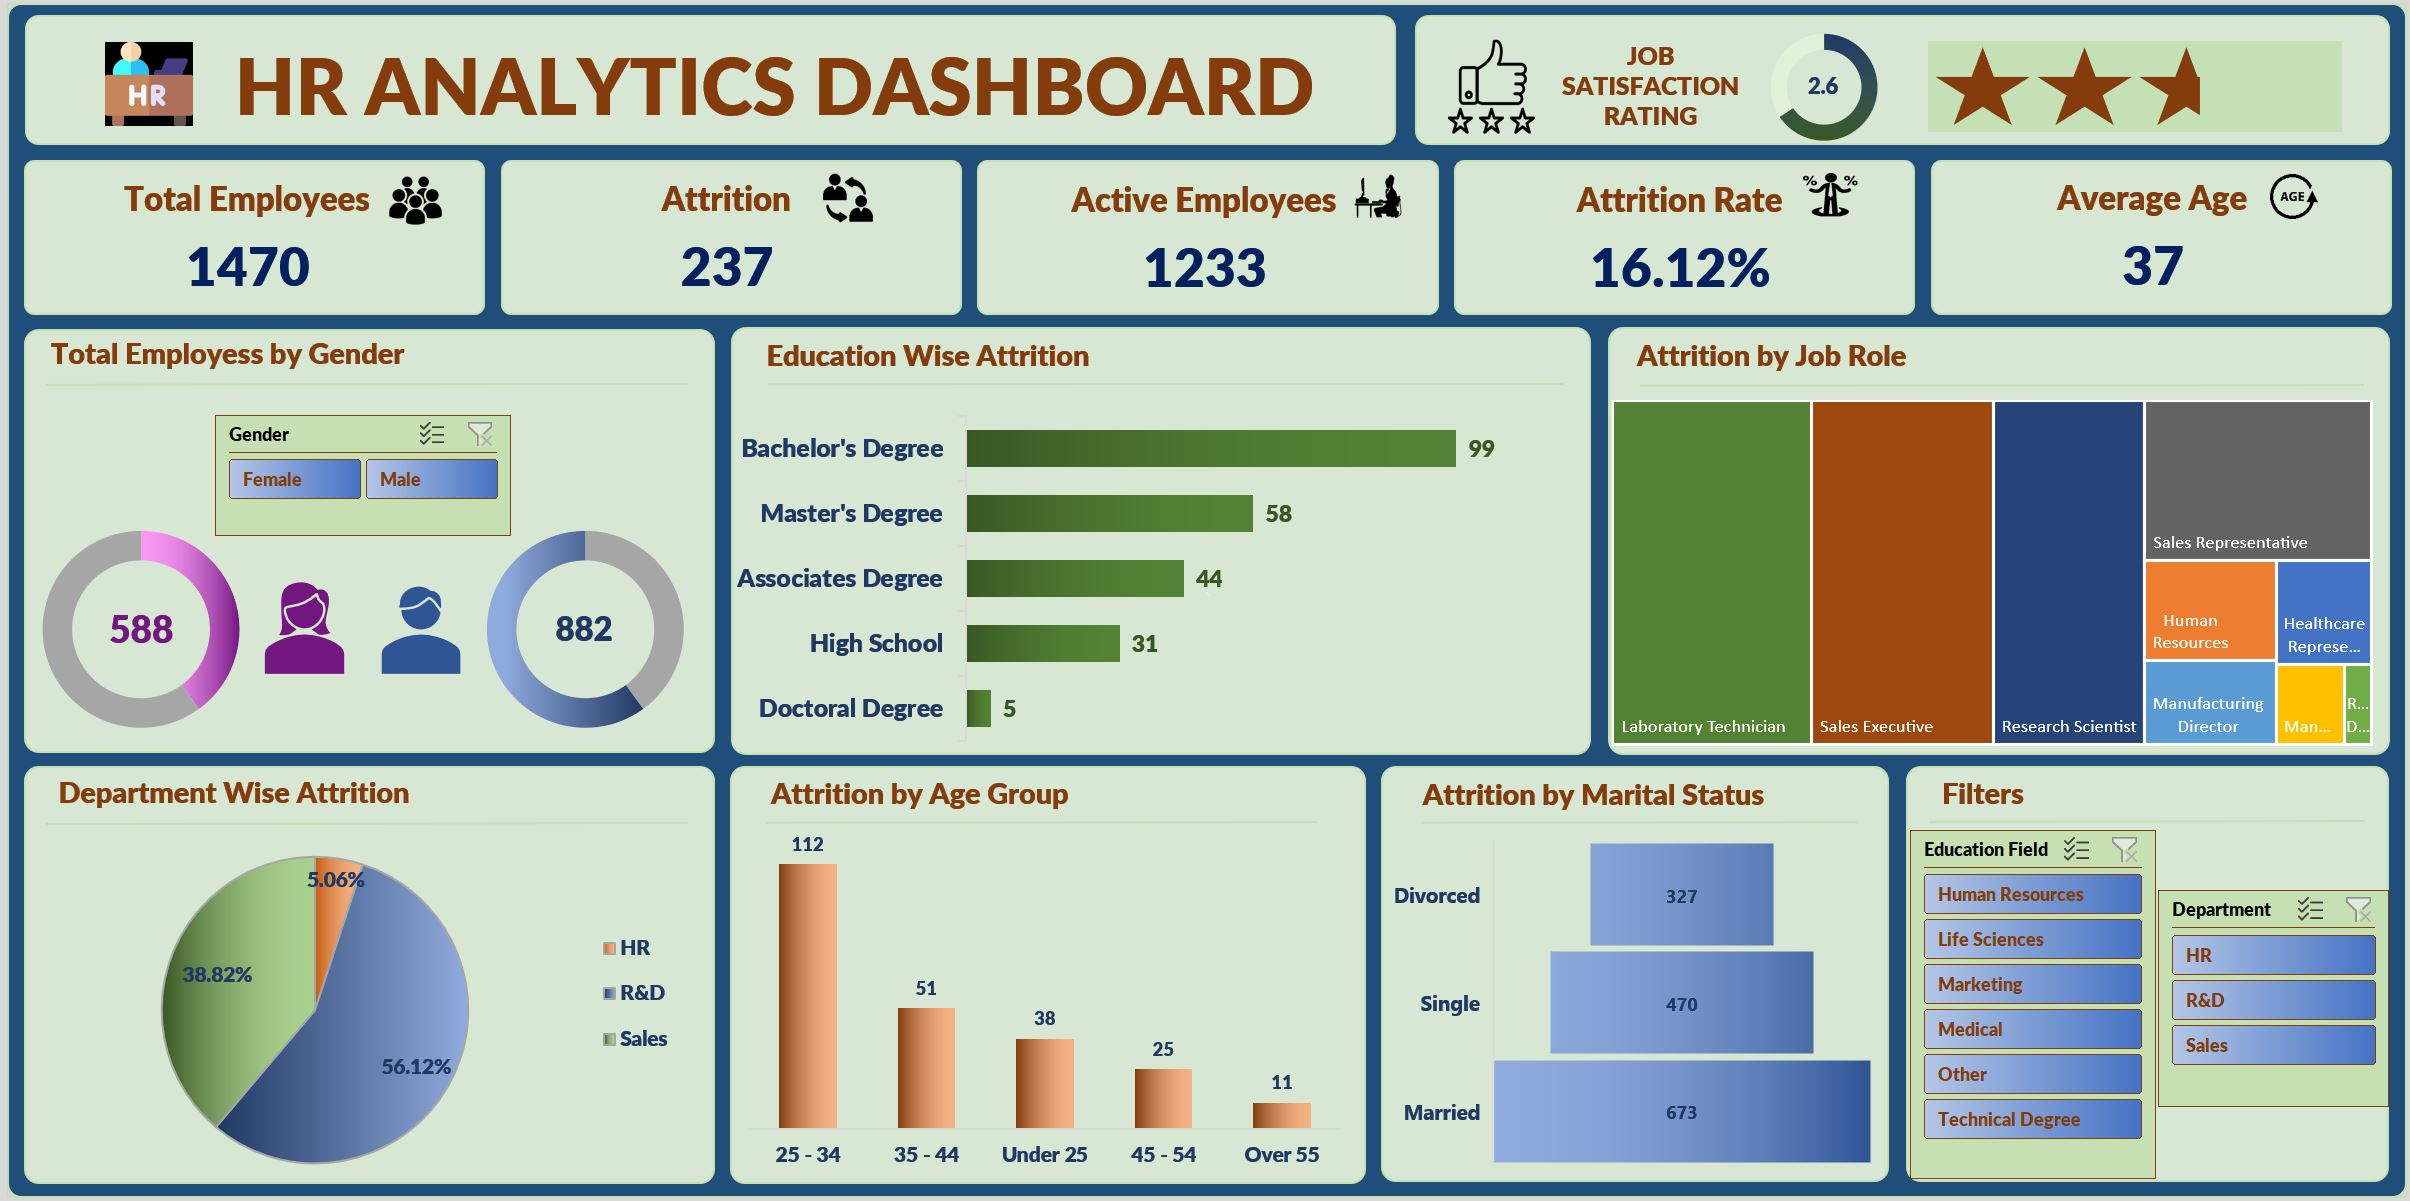

The dashboard page shown, as its layout file describes it:
{"tool":"powerbi","page":{"name":"HR Analytics Dashboard","canvas":[1280,720],"ordinal":0},"visuals":[{"type":"card","title":"Overall Employees","fields":{"Values":["Sum(HR data.Employee Count)"]},"box":[8.3,61.5,239.9,99.1],"z":0},{"type":"card","title":"Attrition ","fields":{"Values":["Sum(HR data.Attrition Count)"]},"box":[264.9,61.5,239.9,100.1],"z":1000},{"type":"card","title":"Attrition Rate","fields":{"Values":["HR data.Attrition Rate"]},"box":[520.4,61.5,240.9,99.1],"z":2000},{"type":"card","title":"Active Employees","fields":{"Values":["HR data.Active employees"]},"box":[778,61.5,239.9,100.1],"z":3000},{"type":"card","title":"Average Age","fields":{"Values":["Avg(HR data.Age)"]},"box":[1031.4,61.5,239.9,100.1],"z":4000},{"type":"pieChart","title":"Department Wise Employee Attrition","fields":{"Category":["HR data.Department"],"Y":["Sum(HR data.Attrition Count)"]},"box":[8.4,175.8,370.2,272.1],"z":5000},{"type":"columnChart","title":"# of Employees by Age Group","fields":{"Category":["HR data.CF_age band"],"Y":["Sum(HR data.Employee Count)"],"Series":["HR data.Gender"]},"box":[407.6,175.8,370.2,272.1],"z":6000},{"type":"pivotTable","title":"Job Satisfaction Rating","fields":{"Rows":["HR data.Job Role"],"Columns":["HR data.Job Satisfaction"],"Values":["Sum(HR data.Employee Count)"]},"box":[809.6,175.8,461.8,272.1],"z":7000},{"type":"barChart","title":"Education Field Wise Employee Attrition","fields":{"Category":["HR data.Education Field"],"Y":["Sum(HR data.Attrition Count)"]},"box":[9.3,461.8,369.3,244.9],"z":8000},{"type":"donutChart","title":"Under 25","fields":{"Category":["HR data.Gender"],"Y":["Sum(HR data.Attrition Count)"],"Series":["HR data.CF_age band"]},"box":[395.5,502,174.8,204.7],"z":9000},{"type":"textbox","title":"Attrition Rate by Gender for Different Age Groups","box":[395.5,461.8,874.1,32.7],"z":10000},{"type":"donutChart","title":"25-34","fields":{"Category":["HR data.Gender"],"Y":["Sum(HR data.Attrition Count)"],"Series":["HR data.CF_age band"]},"box":[570.3,502,174.8,204.7],"z":11000},{"type":"donutChart","title":"35-44","fields":{"Category":["HR data.Gender"],"Y":["Sum(HR data.Attrition Count)"],"Series":["HR data.CF_age band"]},"box":[745.1,503,174.8,204.7],"z":12000},{"type":"donutChart","title":"45-54","fields":{"Category":["HR data.Gender"],"Y":["Sum(HR data.Attrition Count)"],"Series":["HR data.CF_age band"]},"box":[919.9,503,174.8,204.7],"z":13000},{"type":"donutChart","title":"Over 55","fields":{"Category":["HR data.Gender"],"Y":["Sum(HR data.Attrition Count)"],"Series":["HR data.CF_age band"]},"box":[1094.8,502,174.8,204.7],"z":14000},{"type":"card","fields":{"Values":["Sum(HR data.Attrition Count)"]},"box":[459,597.4,45.8,33.7],"z":15000},{"type":"card","fields":{"Values":["Sum(HR data.Attrition Count)"]},"box":[628.8,597.5,57.4,33.4],"z":16000},{"type":"card","fields":{"Values":["Sum(HR data.Attrition Count)"]},"box":[806.1,597.5,53.2,33.4],"z":17000},{"type":"card","fields":{"Values":["Sum(HR data.Attrition Count)"]},"box":[985.4,597.4,45.8,33.7],"z":18000},{"type":"card","fields":{"Values":["Sum(HR data.Attrition Count)"]},"box":[1160.2,597.4,45.8,33.7],"z":19000},{"type":"textbox","box":[9.4,4.2,324.3,53.2],"z":20000},{"type":"slicer","fields":{"Values":["HR data.Education"]},"box":[358.7,4.2,911.4,53],"z":21000}]}

Visuals, with their boxes on the page's 1280x720 design canvas (x1, y1, x2, y2). These are canvas units, not pixel positions in the 2410x1201 screenshot, which may show the page scaled, cropped or inside an application window:
"Overall Employees" card: select_region(8, 62, 248, 161)
"Attrition " card: select_region(265, 62, 505, 162)
"Attrition Rate" card: select_region(520, 62, 761, 161)
"Active Employees" card: select_region(778, 62, 1018, 162)
"Average Age" card: select_region(1031, 62, 1271, 162)
"Department Wise Employee Attrition" pieChart: select_region(8, 176, 379, 448)
"# of Employees by Age Group" columnChart: select_region(408, 176, 778, 448)
"Job Satisfaction Rating" pivotTable: select_region(810, 176, 1271, 448)
"Education Field Wise Employee Attrition" barChart: select_region(9, 462, 379, 707)
"Under 25" donutChart: select_region(396, 502, 570, 707)
"Attrition Rate by Gender for Different Age Groups" textbox: select_region(396, 462, 1270, 494)
"25-34" donutChart: select_region(570, 502, 745, 707)
"35-44" donutChart: select_region(745, 503, 920, 708)
"45-54" donutChart: select_region(920, 503, 1095, 708)
"Over 55" donutChart: select_region(1095, 502, 1270, 707)
card - Sum(HR data.Attrition Count): select_region(459, 597, 505, 631)
card - Sum(HR data.Attrition Count): select_region(629, 598, 686, 631)
card - Sum(HR data.Attrition Count): select_region(806, 598, 859, 631)
card - Sum(HR data.Attrition Count): select_region(985, 597, 1031, 631)
card - Sum(HR data.Attrition Count): select_region(1160, 597, 1206, 631)
textbox: select_region(9, 4, 334, 57)
slicer - HR data.Education: select_region(359, 4, 1270, 57)
